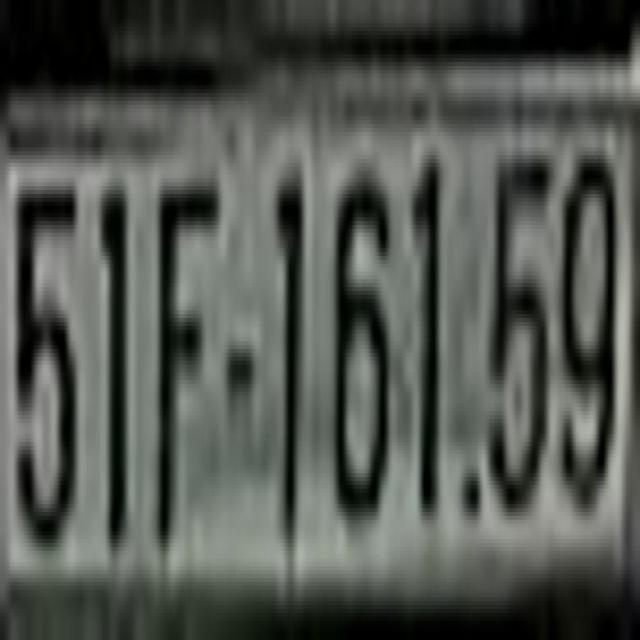1: (273, 147, 306, 555), (412, 178, 448, 512), (98, 178, 131, 536)
5: (12, 163, 83, 562), (486, 124, 552, 528)
6: (335, 144, 395, 543)
9: (559, 120, 618, 516)
F: (158, 166, 224, 558)
